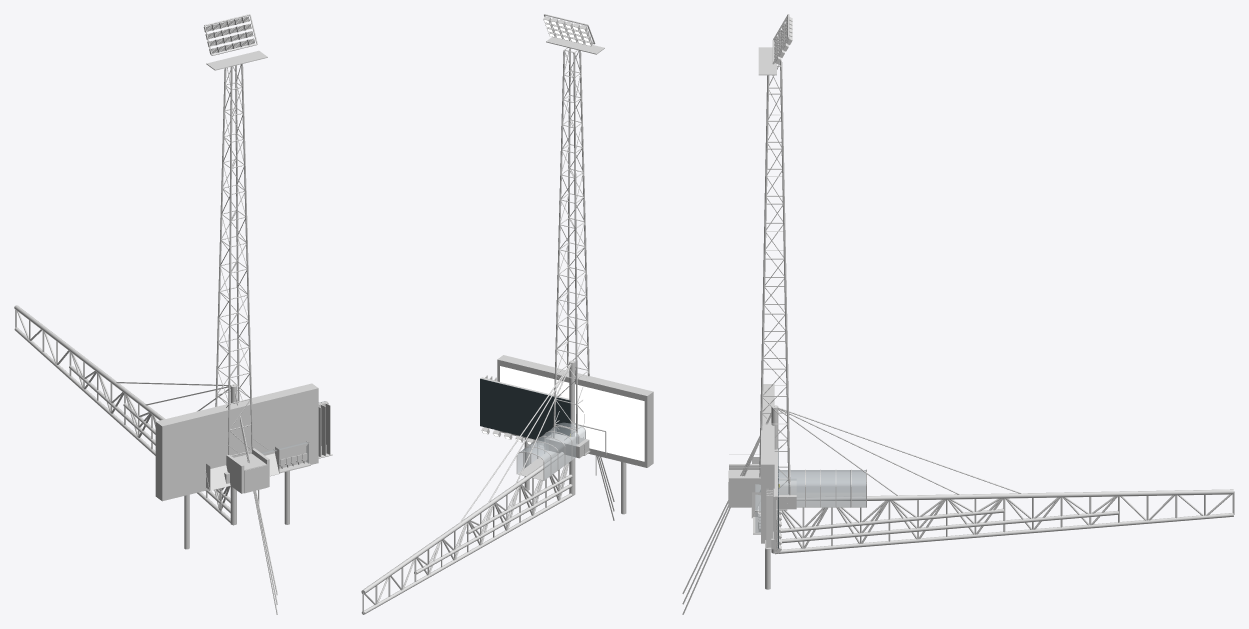
File: stadium-kit.glb
3 renders of one model, left to right at view 1: azimuth 30°, elevation 25°; view 2: azimuth 150°, elevation 25°; view 3: azimuth 270°, elevation 25°, orthographic. The views are drawn at different scales.
Parts seen in each view (by area): view 1: scoreboard.lod0, floodlight_tower.lod0, roof_truss_40.lod0, roof_truss_30.lod0, vomitory.lod0, roof_truss_20.lod0, goal_net.lod0, facade_fins.lod0, dugout.lod0; view 2: scoreboard.lod0, floodlight_tower.lod0, facade_fins.lod0, roof_truss_40.lod0, roof_truss_30.lod0, tunnel.lod0, roof_truss_20.lod0; view 3: roof_truss_40.lod0, floodlight_tower.lod0, roof_truss_30.lod0, roof_truss_20.lod0, tunnel.lod0, scoreboard.lod0, vomitory.lod0.
Boxes of the visible parts, box(x1,y1,x2,y2) form: scoreboard.lod0: box(155, 383, 318, 549); floodlight_tower.lod0: box(203, 14, 267, 483); roof_truss_40.lod0: box(14, 305, 277, 614); roof_truss_30.lod0: box(68, 347, 277, 604); vomitory.lod0: box(226, 438, 269, 493); roof_truss_20.lod0: box(123, 384, 277, 594); goal_net.lod0: box(206, 447, 279, 490); facade_fins.lod0: box(318, 401, 330, 456); dugout.lod0: box(261, 441, 310, 473); scoreboard.lod0: box(497, 355, 653, 514); floodlight_tower.lod0: box(543, 14, 604, 458); facade_fins.lod0: box(480, 375, 570, 441); roof_truss_40.lod0: box(361, 361, 614, 614); roof_truss_30.lod0: box(414, 363, 614, 574); tunnel.lod0: box(516, 422, 585, 480); roof_truss_20.lod0: box(466, 360, 614, 534); roof_truss_40.lod0: box(682, 406, 1234, 614); floodlight_tower.lod0: box(758, 14, 796, 509); roof_truss_30.lod0: box(682, 408, 1119, 604); roof_truss_20.lod0: box(682, 405, 1005, 593); tunnel.lod0: box(778, 469, 866, 507); scoreboard.lod0: box(761, 384, 774, 589); vomitory.lod0: box(728, 454, 760, 507).
Size of what is drawn, in the model's own units: 18.3 by 56.67 by 48.14.
